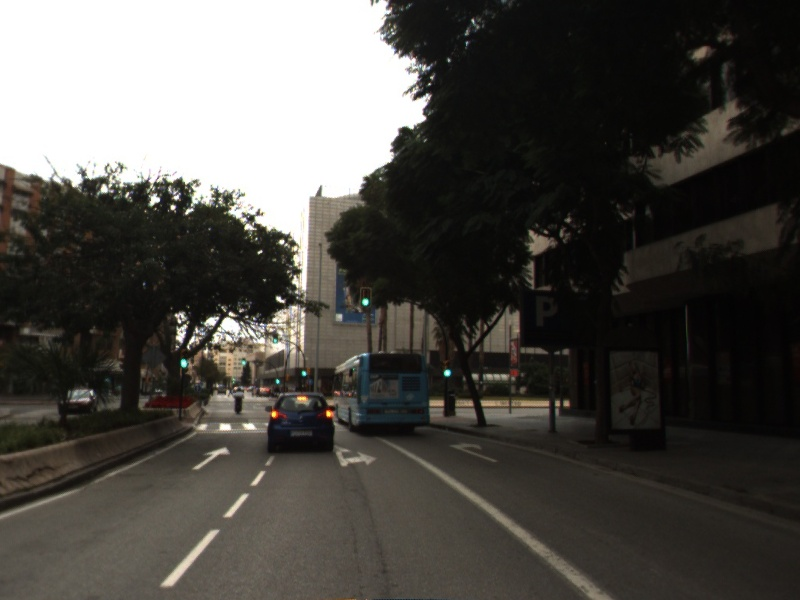RIGHT: (447, 439, 501, 465)
STRAIGHT: (190, 444, 233, 472)
STRAIGHT_RIGHT: (330, 442, 380, 469)
